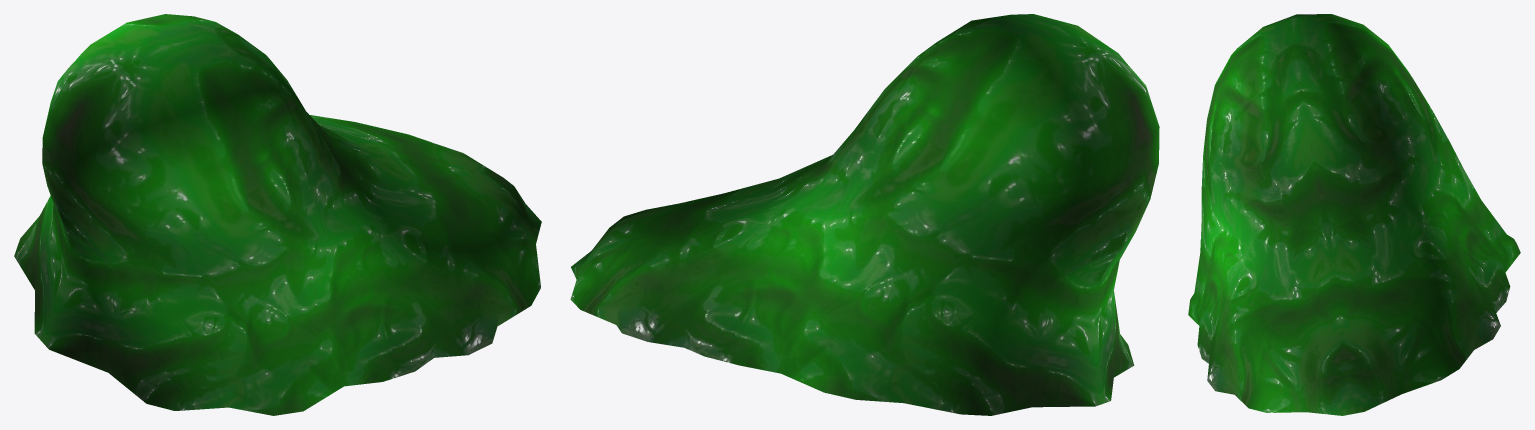
File: slime.obj
3 views of the same model, side by side, from view 1: azimuth 30°, elevation 25°; view 2: azimuth 150°, elevation 25°; view 3: azimuth 270°, elevation 25° (orthographic). The views are drawn at different scales.
Visible parts, largest first — view 1: slime_low_002; view 2: slime_low_002; view 3: slime_low_002.
Part boxes in pixels (bbox=[...]): slime_low_002: bbox=[14, 14, 541, 415]; slime_low_002: bbox=[570, 14, 1159, 415]; slime_low_002: bbox=[1188, 14, 1520, 415].
Bounding box in the file's own units: 20.77 × 13.27 × 14.85.
